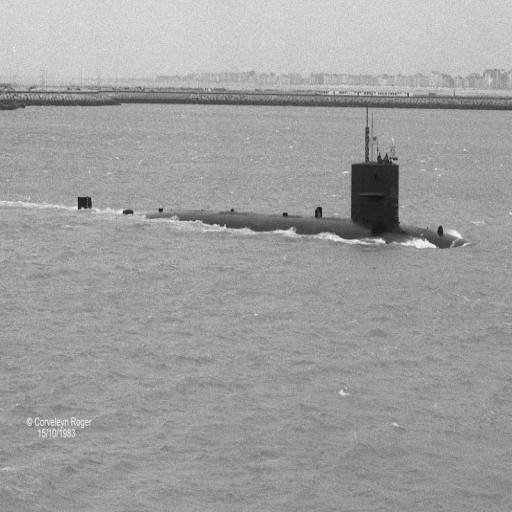submarine: (77, 109, 470, 247)
